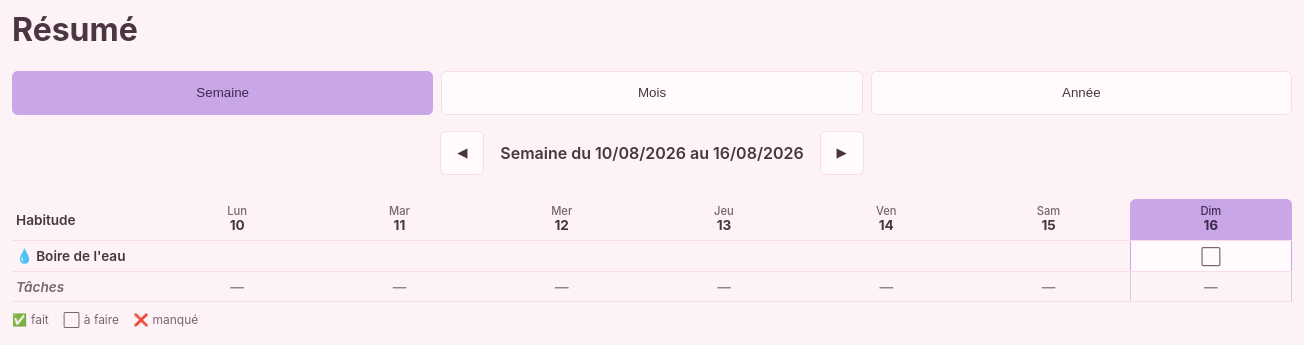
Test: Résumé — /resume (US-005) › scénario 3/3bis — seule la période « année » bascule en colonnes mensuelles
The width and height of the screenshot is (1304, 345).
Expected: the text "Boire de l'eau" is shown, x1=36 y1=248 x2=126 y2=264
Click the button "Année" at (1081, 93), box x1=871 y1=71 x2=1292 y2=115
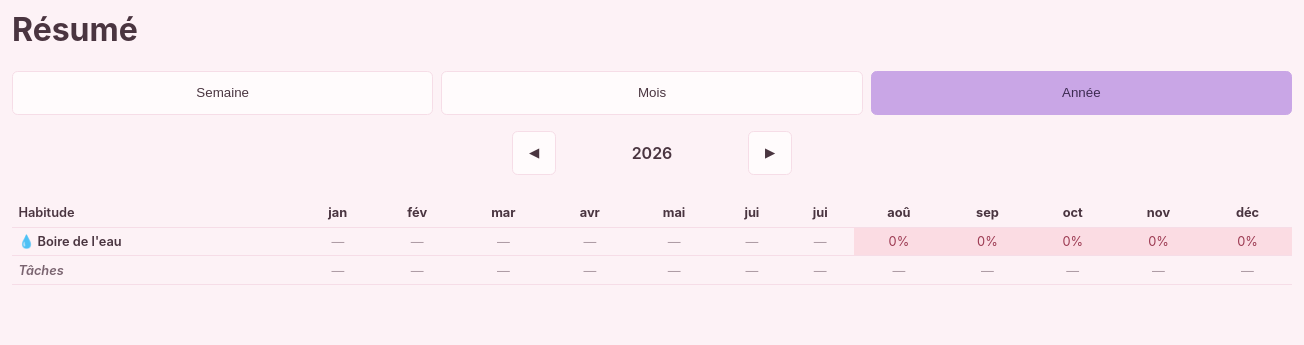
Expected: the 1st text "0%" is shown, x1=854 y1=227 x2=944 y2=256
